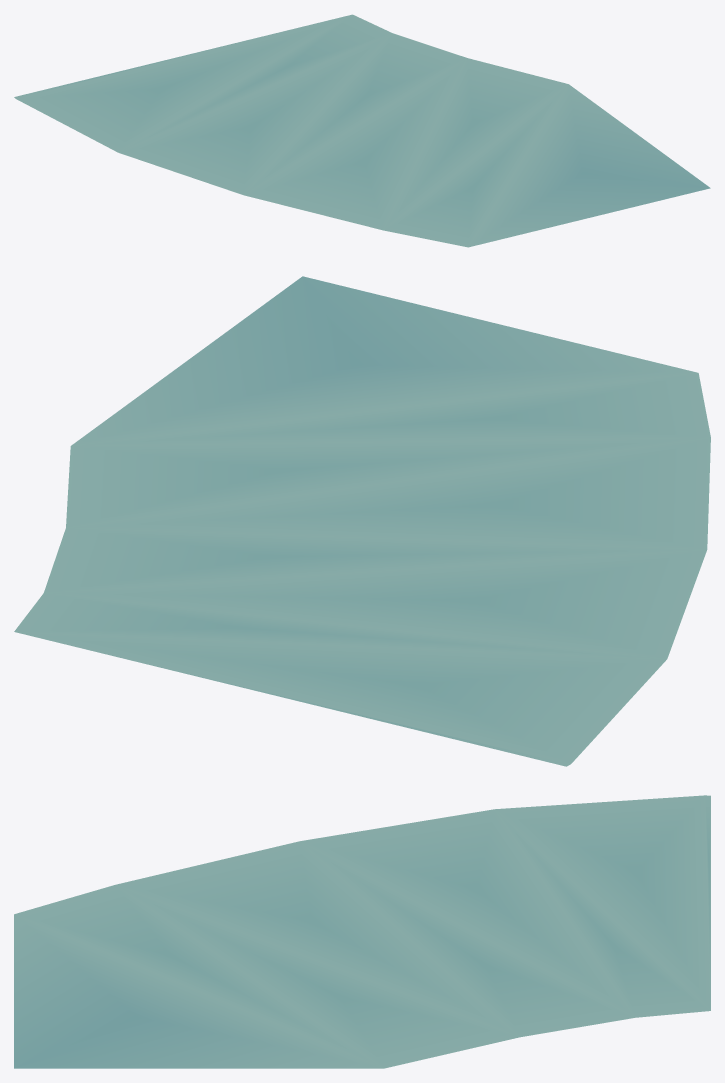
The model's file is water-14-2.glb.
3 renders of one model, top to bottom at view 1: azimuth 30°, elevation 25°; view 2: azimuth 150°, elevation 25°; view 3: azimuth 270°, elevation 25°, orthographic. The views are drawn at different scales.
Bounding box in the file's own units: 14.84 × 0 × 16.
